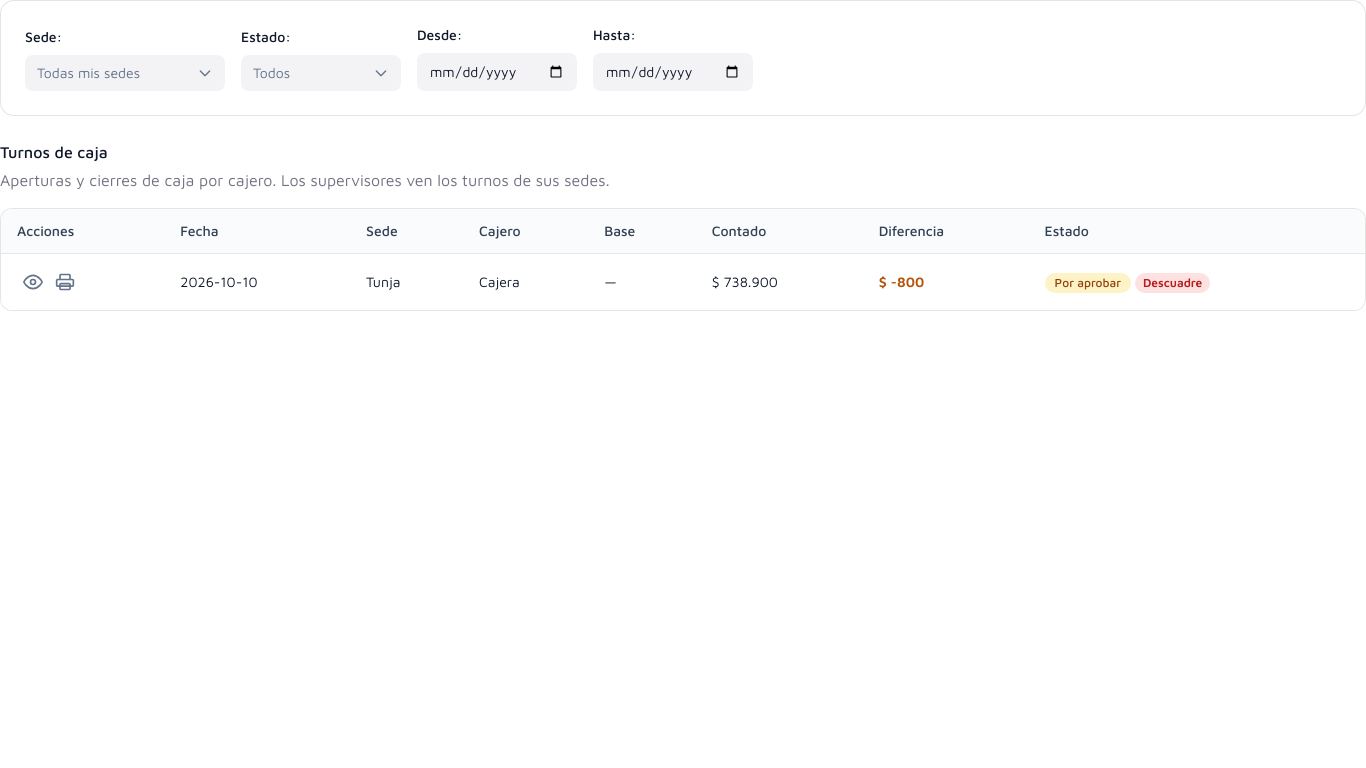
TurnosCajaView › marca el descuadre en el listado y enciende la alarma en el detalle
Step 1. Click the button titled "Ver detalle" → (33, 282), box [17,266,49,298]
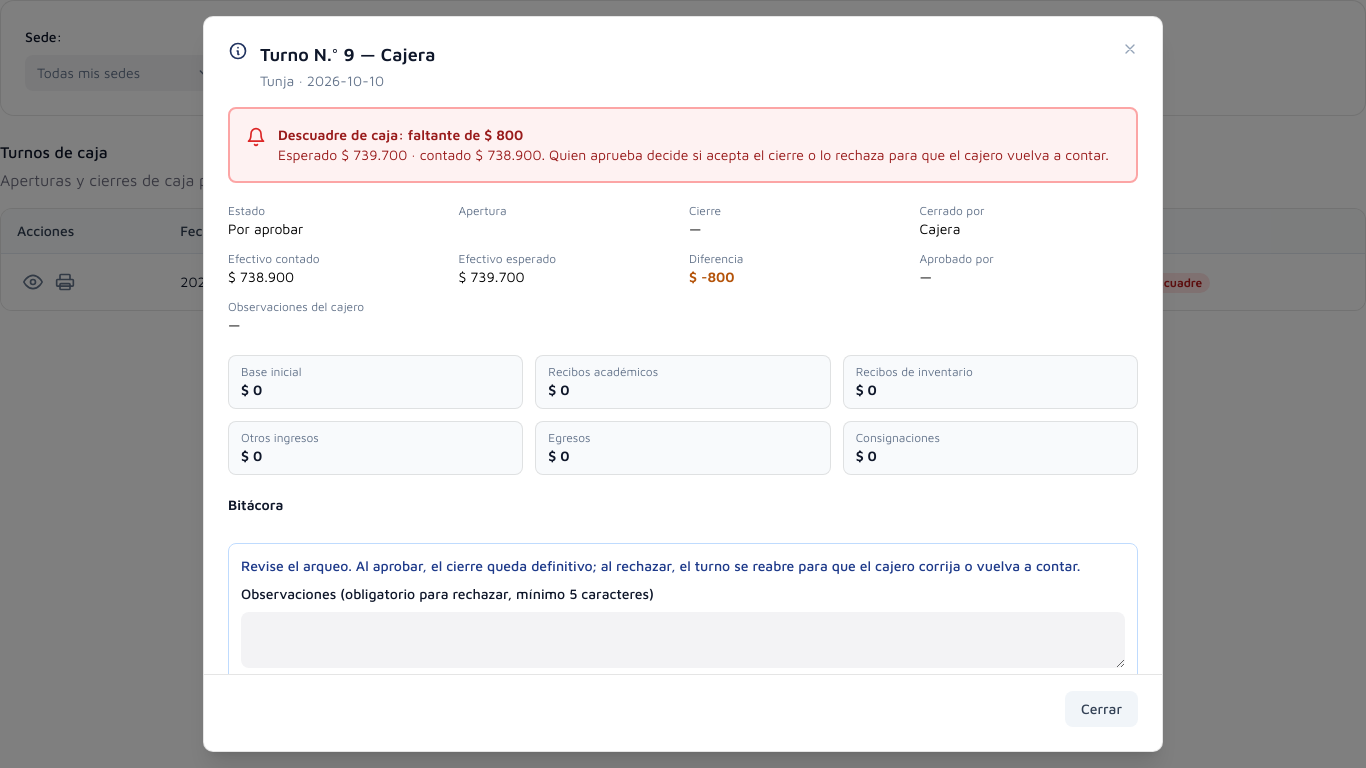
Expected: the text "Descuadre" is shown, [1135,272,1210,292]
Expected: the message shows "faltante de $ 800", [278,126,523,143]
